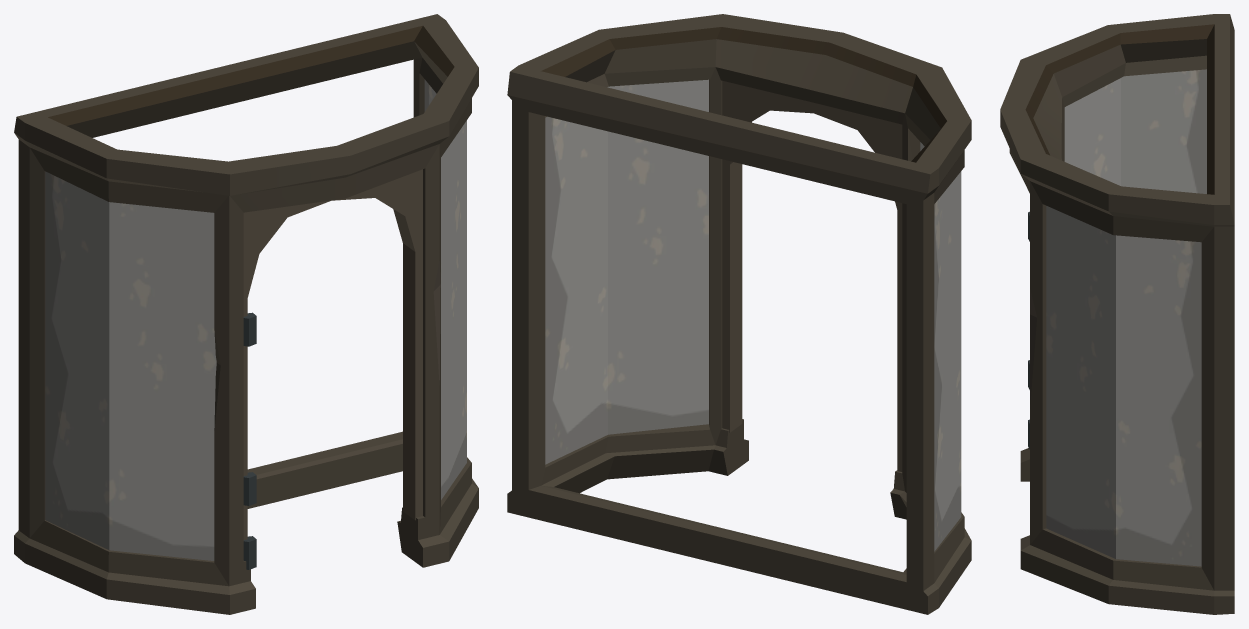
File: kingdom_SM_Bld_House_Tower_Door_01.gltf
3 renders of one model, left to right at view 1: azimuth 30°, elevation 25°; view 2: azimuth 150°, elevation 25°; view 3: azimuth 270°, elevation 25°, orthographic. The views are drawn at different scales.
Parts seen in each view (by area): view 1: SM_Bld_House_Tower_Door_01; view 2: SM_Bld_House_Tower_Door_01; view 3: SM_Bld_House_Tower_Door_01.
Part boxes in pixels (left/top/right/bottom): SM_Bld_House_Tower_Door_01: left=14, top=14, right=478, bottom=614; SM_Bld_House_Tower_Door_01: left=507, top=14, right=971, bottom=614; SM_Bld_House_Tower_Door_01: left=1000, top=14, right=1234, bottom=614.
Size of the model in its own units: 2.5 by 2.5 by 1.3.
Materials: 1 (1 with a texture image).
